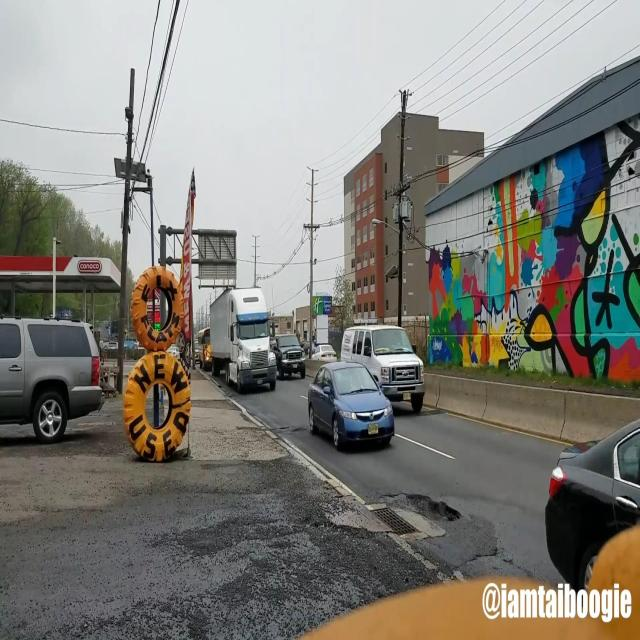pothole: (376, 490, 462, 523)
